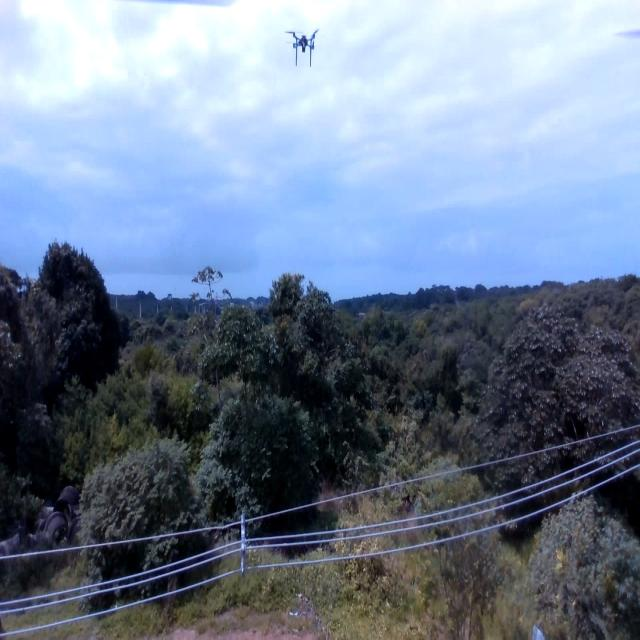-uav-: (280, 17, 327, 78)
